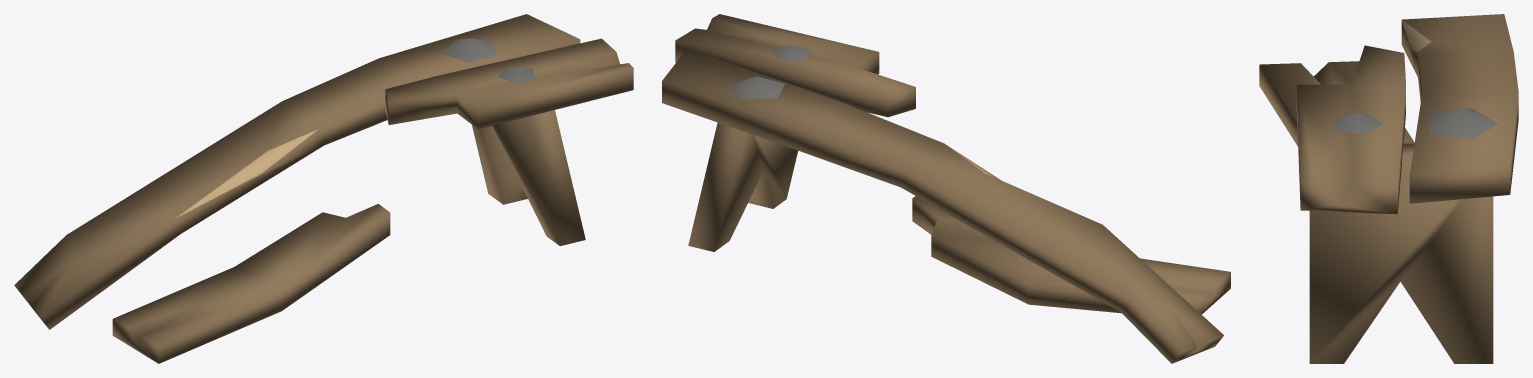
Rendered from rpgpp_av_bench_wood_02b.fbx.
3 views of the same model, side by side, from view 1: azimuth 30°, elevation 25°; view 2: azimuth 150°, elevation 25°; view 3: azimuth 270°, elevation 25° (orthographic). The views are drawn at different scales.
Parts seen in each view (by area): view 1: rpgpp_av_bench_wood_02b; view 2: rpgpp_av_bench_wood_02b; view 3: rpgpp_av_bench_wood_02b.
Boxes of the visible parts, left/top/right/bottom form: rpgpp_av_bench_wood_02b: left=14, top=14, right=633, bottom=363; rpgpp_av_bench_wood_02b: left=662, top=14, right=1230, bottom=363; rpgpp_av_bench_wood_02b: left=1259, top=14, right=1518, bottom=363.
Bounding box in the file's own units: 1.46 × 0.4455 × 0.4639.
